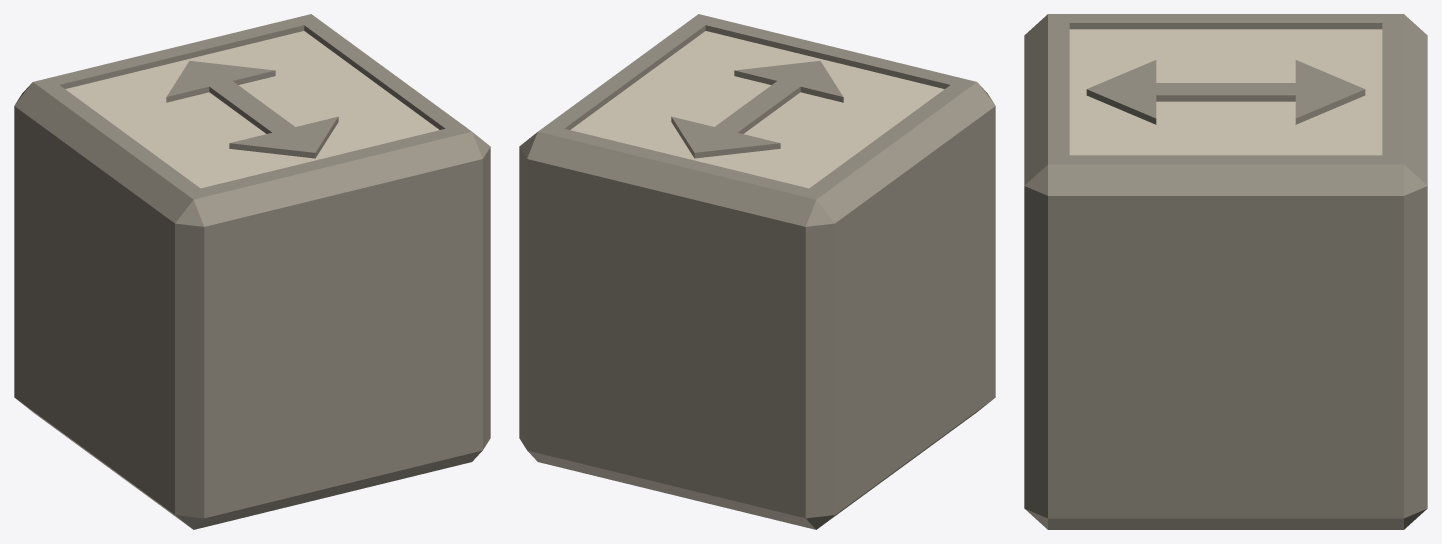
File: movingCube.glb
The picture shows the model from 3 angles, left to right: view 1: azimuth 30°, elevation 25°; view 2: azimuth 150°, elevation 25°; view 3: azimuth 270°, elevation 25°; orthographic projection. The views are drawn at different scales.
Visible parts, largest first — view 1: Cube; view 2: Cube; view 3: Cube.
Boxes of the visible parts, left/top/right/bottom form: Cube: left=14, top=14, right=490, bottom=529; Cube: left=519, top=14, right=995, bottom=529; Cube: left=1024, top=14, right=1427, bottom=529.
Size of the model in its own units: 1 by 1 by 1.
